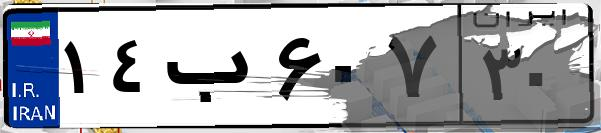0: (330, 28, 385, 110), (525, 38, 570, 115)
1: (57, 26, 110, 100)
3: (475, 38, 525, 113)
4: (110, 28, 158, 98)
6: (270, 28, 330, 110)
7: (385, 28, 445, 110)
ب: (158, 20, 270, 120)
